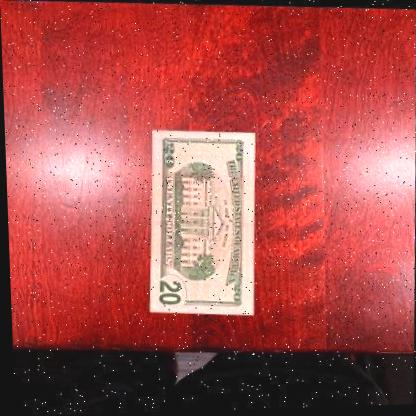twenty-back: (144, 127, 262, 317)
